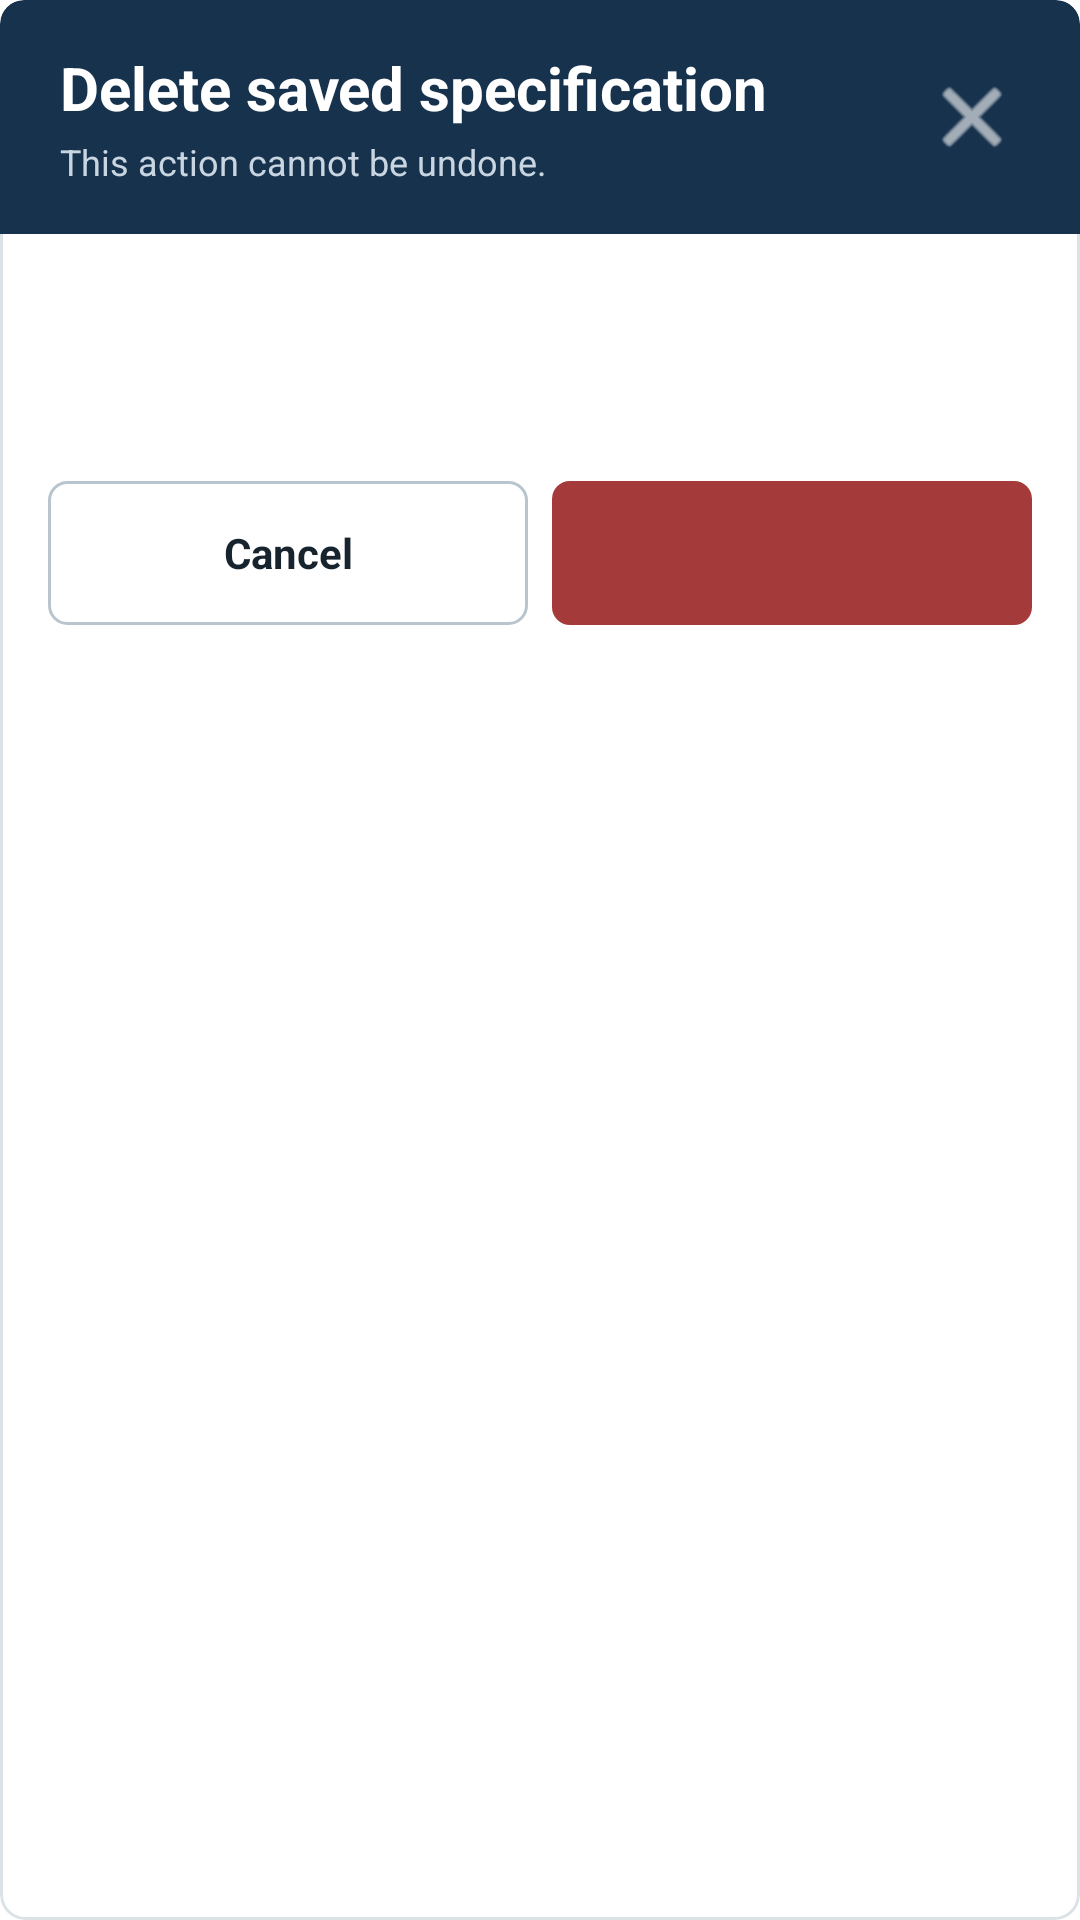

Locate icon controls on the screen. Image size 1080 x 1920, boxes as (x1, y1, x2, y2).
Close selection: (942, 87, 1002, 147)
